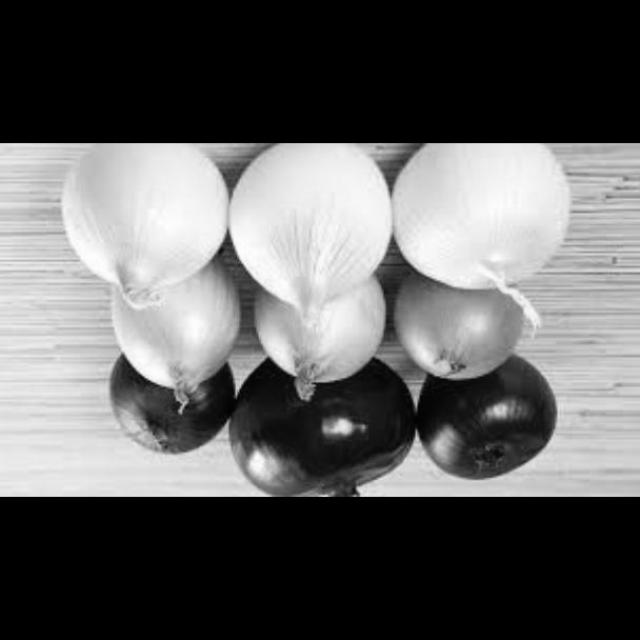onion: (228, 145, 395, 324), (58, 145, 234, 306), (391, 145, 573, 297), (232, 352, 413, 499), (407, 358, 559, 486), (109, 260, 240, 407), (248, 264, 386, 400), (391, 275, 529, 386), (110, 346, 233, 460)
